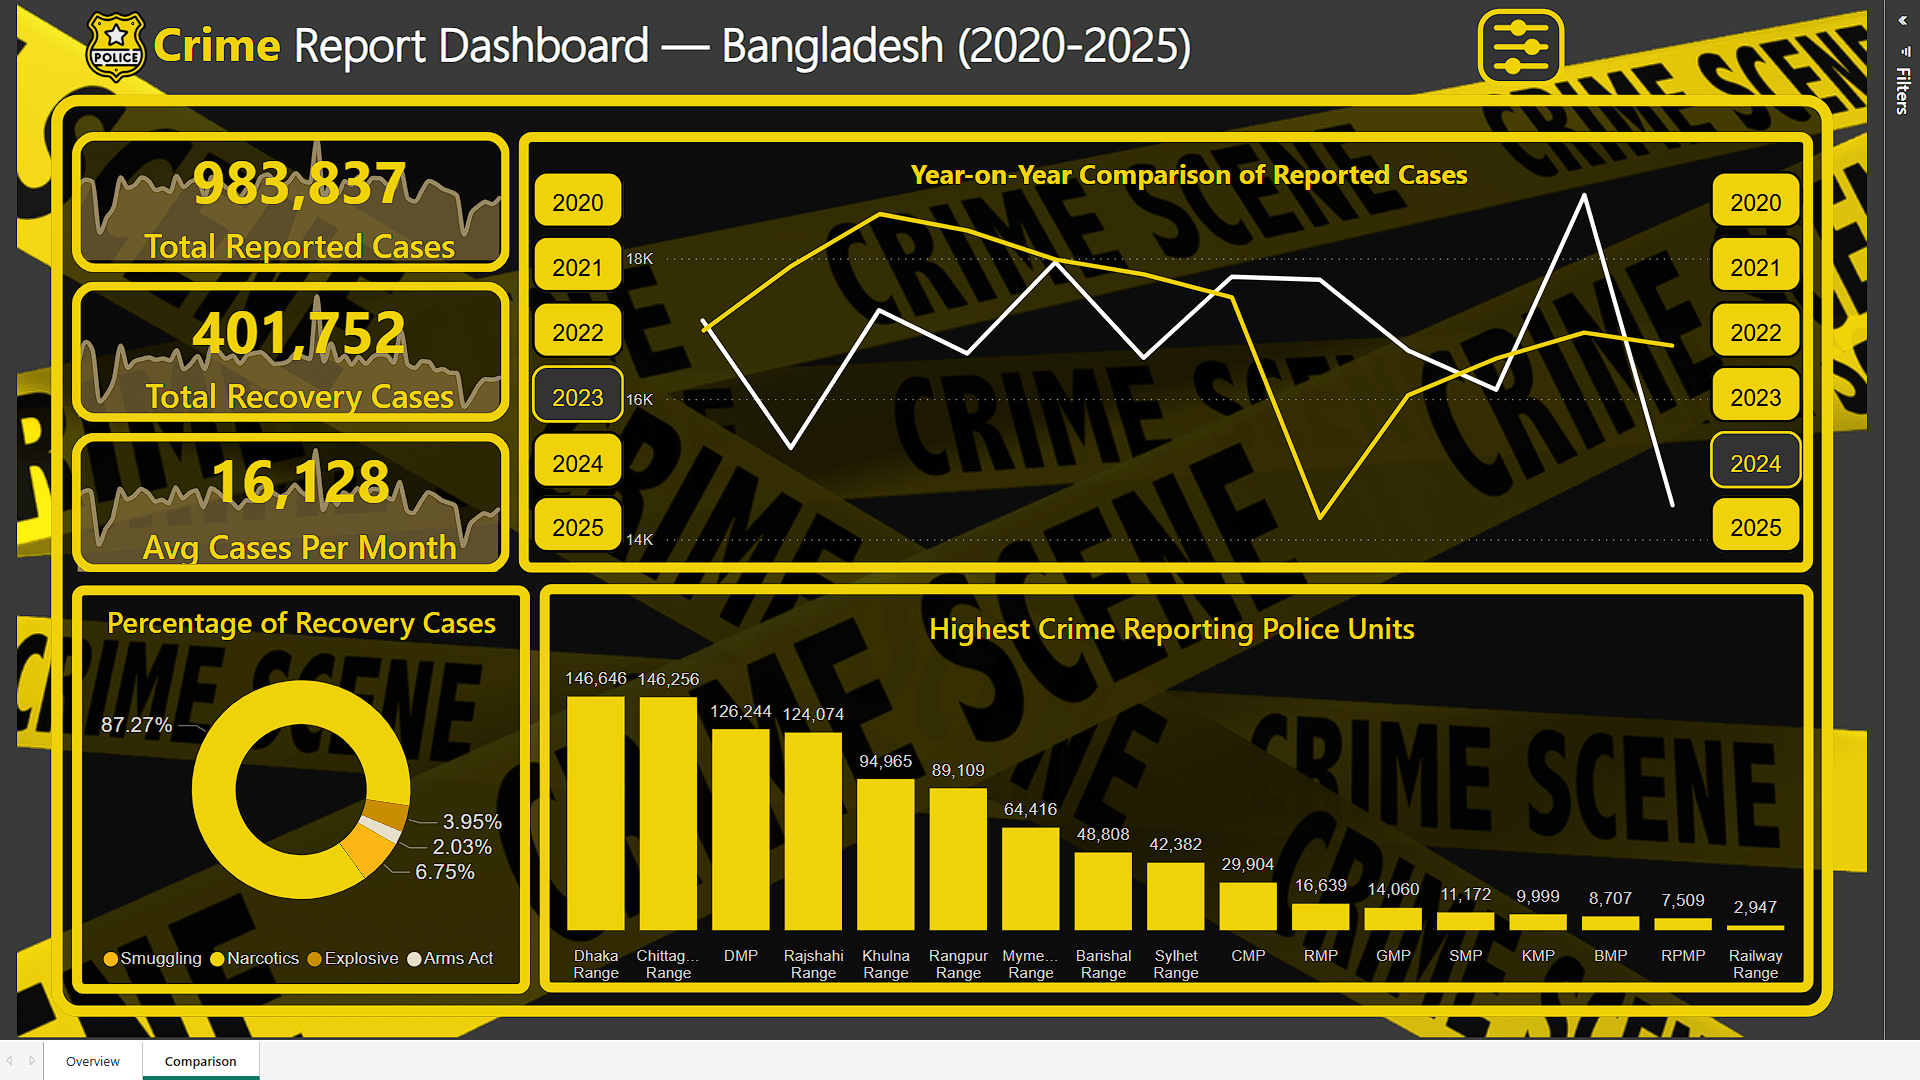

This screenshot's page, from the dashboard's own definition file:
{"tool":"powerbi","page":{"name":"Overview","canvas":[1280,720],"ordinal":0},"visuals":[{"type":"group","id":"g1","title":"Group 1","box":[89.5,2.5,740,57.3],"z":0,"group":"g2"},{"type":"textbox","box":[89.5,2.5,740,57.3],"z":0,"group":"g1"},{"type":"shape","box":[23.3,65.8,1233.3,638.3],"z":0},{"type":"image","box":[37.5,2.6,62.2,60.6],"z":1000,"group":"g2"},{"type":"areaChart","fields":{"Category":["Date Table.Start of Month.Variation.Date Hierarchy.Year","Date Table.Start of Month.Variation.Date Hierarchy.Quarter","Date Table.Start of Month.Variation.Date Hierarchy.Month","Date Table.Start of Month.Variation.Date Hierarchy.Day"],"Y":["_Measure.Reported Cases"]},"box":[32.6,82.1,311.1,97.9],"z":1000},{"type":"areaChart","fields":{"Category":["Date Table.Start of Month.Variation.Date Hierarchy.Year","Date Table.Start of Month.Variation.Date Hierarchy.Quarter","Date Table.Start of Month.Variation.Date Hierarchy.Month","Date Table.Start of Month.Variation.Date Hierarchy.Day"],"Y":["_Measure.Recovery Cases"]},"box":[32.6,191.1,311.1,96.3],"z":2000},{"type":"areaChart","fields":{"Category":["Date Table.Start of Month.Variation.Date Hierarchy.Year","Date Table.Start of Month.Variation.Date Hierarchy.Quarter","Date Table.Start of Month.Variation.Date Hierarchy.Month","Date Table.Start of Month.Variation.Date Hierarchy.Day"],"Y":["_Measure.Avg Cases Per Month"]},"box":[32.6,292.6,311.1,98.4],"z":3000},{"type":"cardVisual","fields":{"Data":["_Measure.Reported Cases","_Measure.Recovery Cases","_Measure.Avg Cases Per Month"]},"box":[37.3,85.5,302.7,310.9],"z":4000},{"type":"shape","box":[347.5,85.8,892.5,305],"z":5000},{"type":"lineChart","title":"Crime Report Trend","fields":{"Category":["Date Table.Start of Month.Variation.Date Hierarchy.Year","Date Table.Start of Month.Variation.Date Hierarchy.Quarter","Date Table.Start of Month.Variation.Date Hierarchy.Month","Date Table.Start of Month.Variation.Date Hierarchy.Day"],"Y":["_Measure.Reported Cases"]},"box":[355.5,85.5,882.7,305.5],"z":6000},{"type":"shape","box":[37.5,405,1203.3,282.5],"z":7000},{"type":"columnChart","title":"Reported Cases by Crime Type","fields":{"Category":["Crime Statistics Of Bangladesh 2020-25.Crime Type"],"Y":["_Measure.Reported Cases"]},"box":[32.3,404.7,1200.8,272.3],"z":7500},{"type":"image","box":[1010.9,6.4,60,53.6],"z":8000},{"type":"group","id":"g2","title":"Group 3","box":[37.5,2.5,792.5,60.8],"z":9000}]}

Visuals, with their boxes on the page's 1280x720 design canvas (x1, y1, x2, y2). These are canvas units, not pixel positions in the 1920x1080 screenshot, which may show the page scaled, cropped or inside an application window:
"Group 1" group: 90:2:830:60
textbox: 90:2:830:60
shape: 23:66:1257:704
image: 38:3:100:63
areaChart - Date Table.Start of Month.Variation.Date Hierarchy.Year x Date Table.Start of Month.Variation.Date Hierarchy.Quarter: 33:82:344:180
areaChart - Date Table.Start of Month.Variation.Date Hierarchy.Year x Date Table.Start of Month.Variation.Date Hierarchy.Quarter: 33:191:344:287
areaChart - Date Table.Start of Month.Variation.Date Hierarchy.Year x Date Table.Start of Month.Variation.Date Hierarchy.Quarter: 33:293:344:391
cardVisual - _Measure.Reported Cases x _Measure.Recovery Cases: 37:86:340:396
shape: 348:86:1240:391
"Crime Report Trend" lineChart: 356:86:1238:391
shape: 38:405:1241:688
"Reported Cases by Crime Type" columnChart: 32:405:1233:677
image: 1011:6:1071:60
"Group 3" group: 38:2:830:63
